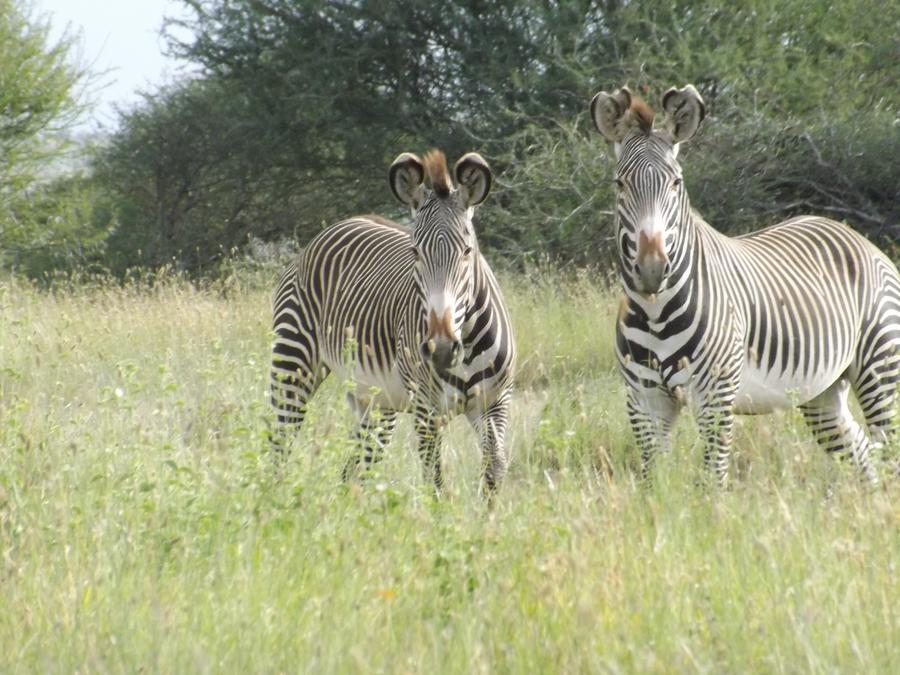zebra_grevys: (284, 216, 424, 370)
